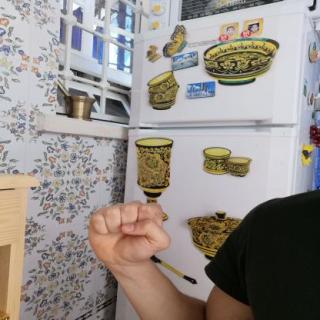SAD: (79, 192, 183, 271)
